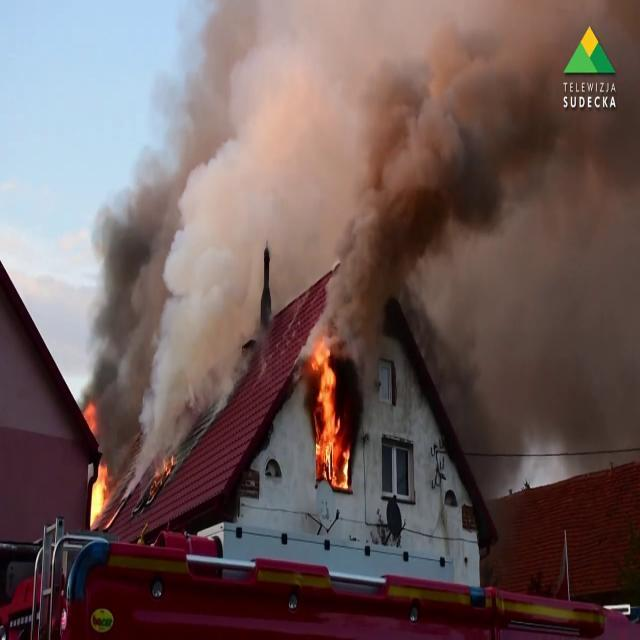Fire: (308, 338, 351, 490), (86, 447, 112, 529)
Smoke: (116, 1, 608, 290), (434, 1, 640, 488), (85, 0, 292, 458)
